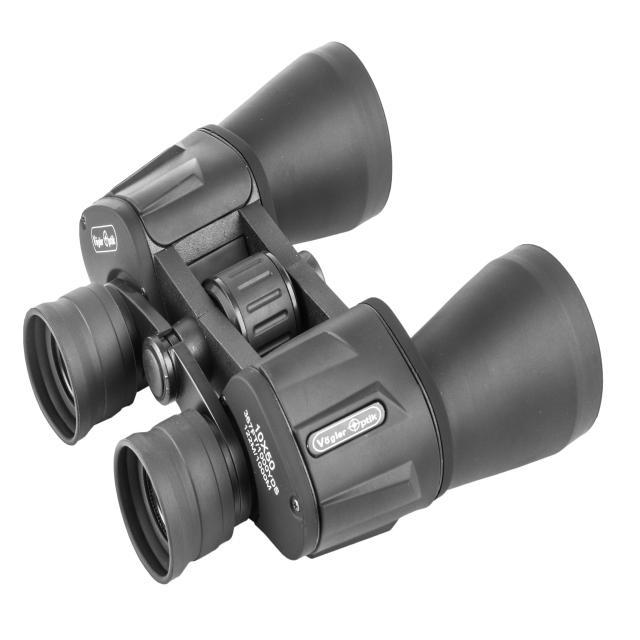Binocular: (19, 34, 606, 594)
